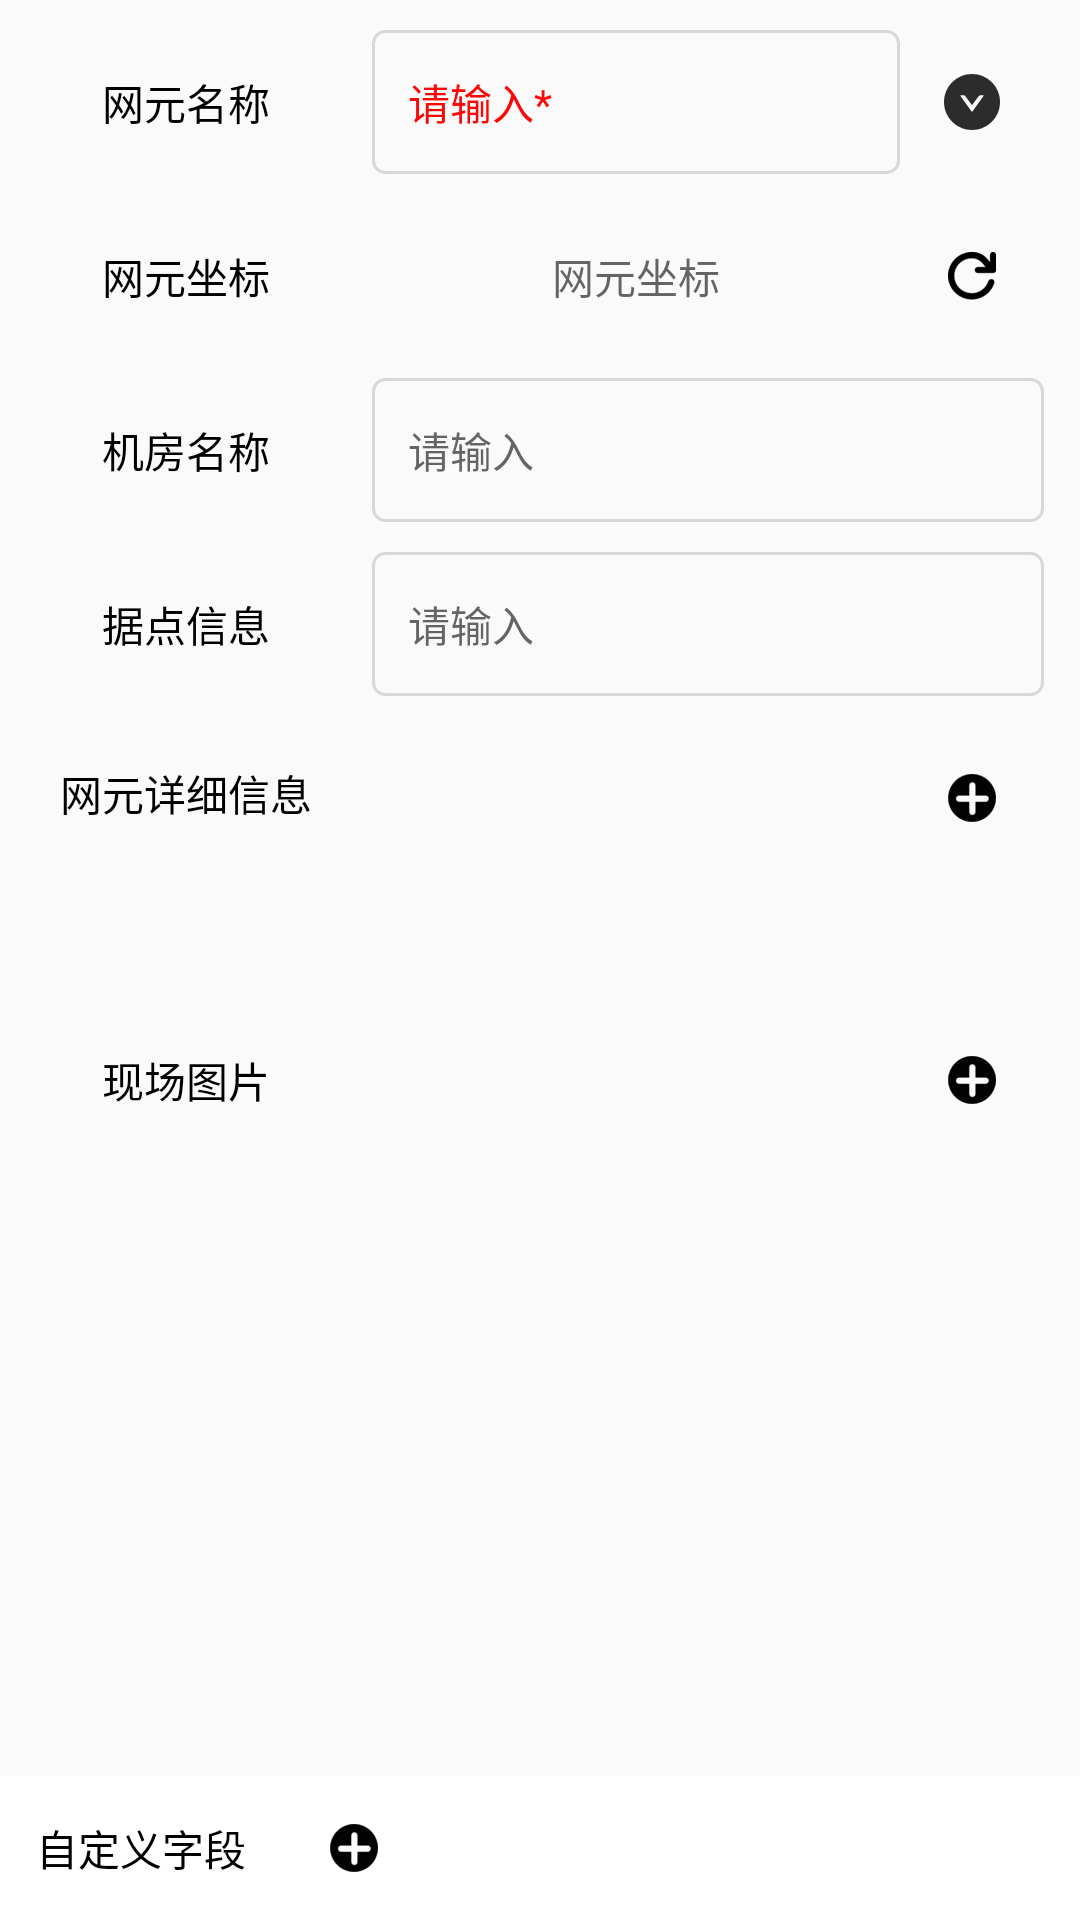

Locate icon controls on the screen. Image size 1080 x 1920, boxes as (x1, y1, x2, y2).
activity main add: (948, 774, 996, 822), (948, 1056, 996, 1104), (330, 1824, 378, 1872)
activity main refresh: (948, 252, 996, 300)
arrow down: (944, 74, 1000, 130)
